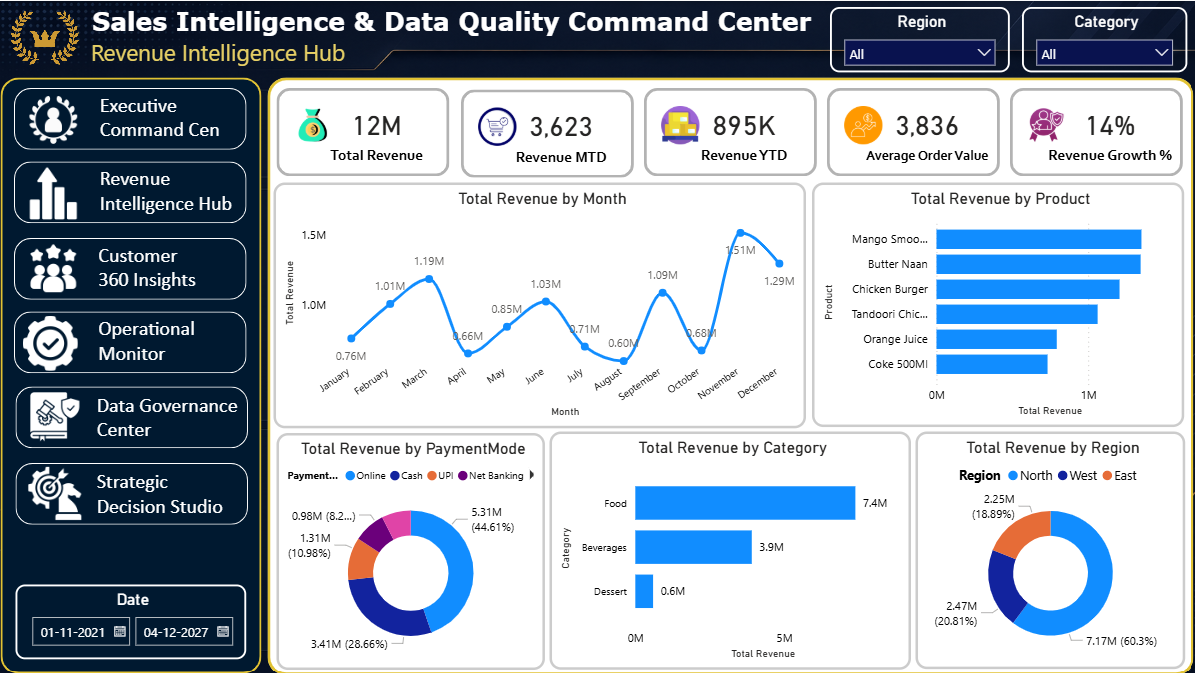

The dashboard page shown, as its layout file describes it:
{"tool":"powerbi","page":{"name":"Revenue Intelligence Hub","canvas":[1280,720],"ordinal":1},"visuals":[{"type":"group","id":"g1","title":"Base","box":[0,0,1280.7,714.2],"z":0},{"type":"textbox","box":[0,0,1280.7,80.9],"z":0,"group":"g17"},{"type":"shape","box":[291.1,80.4,983,634.7],"z":0,"group":"g2"},{"type":"shape","box":[8,81.1,276.8,633.1],"z":0,"group":"g1"},{"type":"shape","box":[300.6,91.2,183.4,93.6],"z":0,"group":"g10"},{"type":"shape","box":[689.7,91.6,183.4,93.6],"z":0,"group":"g8"},{"type":"shape","box":[883.7,91.6,183.4,93.6],"z":0,"group":"g5"},{"type":"shape","box":[1077.7,91.6,183.4,93.6],"z":0,"group":"g3"},{"type":"textbox","box":[107.9,92.1,161.8,67.4],"z":0,"group":"g16"},{"type":"shape","box":[495.7,93.3,183.4,93.6],"z":0,"group":"g9"},{"type":"textbox","box":[108.3,170.7,161.8,67.4],"z":0,"group":"g15"},{"type":"textbox","box":[105.9,251.4,148.3,65.5],"z":0,"group":"g14"},{"type":"textbox","box":[106.3,329.3,161.8,65.5],"z":0,"group":"g13"},{"type":"textbox","box":[105.5,410,167.5,65.5],"z":0,"group":"g12"},{"type":"textbox","box":[106.1,491.8,161.8,63.6],"z":0,"group":"g11"},{"type":"donutChart","fields":{"Y":["Measure.Total Revenue"],"Category":["Dim_Location.Region"]},"box":[977.3,455.9,286.3,252],"z":538,"group":"g6"},{"type":"clusteredBarChart","fields":{"Category":["Dim_Product.Product"],"Y":["Measure.Total Revenue"]},"box":[868.5,192.2,394.5,259.3],"z":577,"group":"g4"},{"type":"donutChart","fields":{"Y":["Measure.Total Revenue"],"Category":["Fact_Sales.PaymentMode"]},"box":[300.3,457.5,284.7,251.3],"z":593,"group":"g6"},{"type":"clusteredBarChart","fields":{"Y":["Measure.Total Revenue"],"Category":["Dim_Product.Category"]},"box":[589.2,455.9,383.3,252.9],"z":625,"group":"g6"},{"type":"lineChart","fields":{"Category":["Dim_Date.Date.Variation.Date Hierarchy.Month"],"Y":["Measure.Total Revenue"]},"box":[297.5,192.2,564.9,260.5],"z":750,"group":"g4"},{"type":"image","box":[15.4,9.6,77,59.7],"z":1000,"group":"g17"},{"type":"group","id":"g2","title":"Center","box":[291.1,80.4,983,634.7],"z":1000},{"type":"card","fields":{"Values":["Measure.Total Revenue"]},"box":[329.4,91.2,154.5,93.6],"z":1000,"group":"g10"},{"type":"card","fields":{"Values":["Measure.Revenue YTD"]},"box":[718.5,91.6,154.5,93.6],"z":1000,"group":"g8"},{"type":"card","fields":{"Values":["Measure.Average Order Value"]},"box":[912.5,91.6,154.5,93.6],"z":1000,"group":"g5"},{"type":"group","id":"g3","title":"Card-5","box":[1077.7,91.6,182.1,93.4],"z":1000,"group":"g7"},{"type":"card","fields":{"Values":["Measure.Revenue Growth %"]},"box":[1106.5,91.6,154.5,93.6],"z":1000,"group":"g3"},{"type":"shape","box":[21.7,92.5,246.5,65.5],"z":1000,"group":"g16"},{"type":"card","fields":{"Values":["Measure.Revenue MTD"]},"box":[524.5,93.3,154.5,93.6],"z":1000,"group":"g9"},{"type":"shape","box":[22.1,171.1,246.5,65.5],"z":1000,"group":"g15"},{"type":"group","id":"g4","title":"Group 2","box":[297.5,192.2,965.5,260.5],"z":1000,"group":"g2"},{"type":"shape","box":[21.7,251.1,246.5,65.5],"z":1000,"group":"g14"},{"type":"shape","box":[22.1,328.7,246.5,65.5],"z":1000,"group":"g13"},{"type":"shape","box":[23.8,409.1,246.5,65.5],"z":1000,"group":"g12"},{"type":"shape","box":[24.2,489.9,246.5,65.5],"z":1000,"group":"g11"},{"type":"group","id":"g5","title":"Card-4","box":[883.7,91.6,182.1,93.4],"z":2000,"group":"g7"},{"type":"image","box":[35.2,96.4,57.8,57.8],"z":2000,"group":"g16"},{"type":"image","box":[317.6,109.8,41.8,40.5],"z":2000,"group":"g10"},{"type":"image","box":[706.7,110.2,41.8,40.5],"z":2000,"group":"g8"},{"type":"image","box":[900.7,110.2,41.8,40.5],"z":2000,"group":"g5"},{"type":"image","box":[1094.7,110.2,41.8,40.5],"z":2000,"group":"g3"},{"type":"image","box":[512.7,111.9,41.8,40.5],"z":2000,"group":"g9"},{"type":"image","box":[35.6,175,57.8,57.8],"z":2000,"group":"g15"},{"type":"image","box":[35.2,255,57.8,57.8],"z":2000,"group":"g14"},{"type":"image","box":[31.2,333.1,57.8,57.8],"z":2000,"group":"g13"},{"type":"image","box":[37.3,413,57.8,57.8],"z":2000,"group":"g12"},{"type":"group","id":"g6","title":"Group 1","box":[300.3,455.9,963.3,252.9],"z":2000,"group":"g2"},{"type":"image","box":[37.7,493.8,57.8,57.8],"z":2000,"group":"g11"},{"type":"group","id":"g7","title":"Group 3","box":[300.6,91.2,959.1,95.4],"z":3000,"group":"g2"},{"type":"group","id":"g8","title":"Card-3","box":[689.7,91.6,182.1,93.4],"z":3000,"group":"g7"},{"type":"group","id":"g9","title":"Card-2","box":[495.7,93.3,182.1,93.4],"z":4000,"group":"g7"},{"type":"group","id":"g10","title":"Card-1","box":[300.6,91.2,182.8,92.9],"z":5000,"group":"g7"},{"type":"slicer","title":"Date","fields":{"Values":["Dim_Date.Date"]},"box":[23.4,618.7,245,79.5],"z":5000,"group":"g1"},{"type":"group","id":"g11","title":"Button-6","box":[24.2,489.9,246.5,65.5],"z":9000,"group":"g1"},{"type":"group","id":"g12","title":"Button-5","box":[23.8,409.1,249.3,66.4],"z":9062,"group":"g1"},{"type":"group","id":"g13","title":"Button-4","box":[22.1,328.7,246.5,66.1],"z":9125,"group":"g1"},{"type":"group","id":"g14","title":"Button-3","box":[21.7,251.1,246.5,65.8],"z":9250,"group":"g1"},{"type":"group","id":"g15","title":"Button-2","box":[22.1,170.7,247.9,67.4],"z":9500,"group":"g1"},{"type":"group","id":"g16","title":"Button-1","box":[21.7,92.1,248.4,67.4],"z":10000,"group":"g1"},{"type":"slicer","title":"Category","fields":{"Values":["Dim_Product.Category"]},"box":[1091.9,5.8,175.2,69.3],"z":10500,"group":"g1"},{"type":"slicer","title":"Region","fields":{"Values":["Dim_Location.Region"]},"box":[887.8,5.8,190.7,69.3],"z":11000,"group":"g1"},{"type":"group","id":"g17","title":"Header","box":[0,0,1280.7,80.9],"z":11500,"group":"g1"}]}

Visuals, with their boxes in screenshot pixels (x1, y1, x2, y2), scaled from the page's 1280x720 canvas onto the 1195x673 screenshot:
"Base" group: <box>0,0,1194,668</box>
textbox: <box>0,0,1194,76</box>
shape: <box>272,75,1189,668</box>
shape: <box>7,76,266,668</box>
shape: <box>281,85,452,173</box>
shape: <box>644,86,815,173</box>
shape: <box>825,86,996,173</box>
shape: <box>1006,86,1177,173</box>
textbox: <box>101,86,252,149</box>
shape: <box>463,87,634,175</box>
textbox: <box>101,160,252,223</box>
textbox: <box>99,235,237,296</box>
textbox: <box>99,308,250,369</box>
textbox: <box>98,383,255,444</box>
textbox: <box>99,460,250,519</box>
donutChart - Measure.Total Revenue x Dim_Location.Region: <box>912,426,1180,662</box>
clusteredBarChart - Dim_Product.Product x Measure.Total Revenue: <box>811,180,1179,422</box>
donutChart - Measure.Total Revenue x Fact_Sales.PaymentMode: <box>280,428,546,663</box>
clusteredBarChart - Measure.Total Revenue x Dim_Product.Category: <box>550,426,908,663</box>
lineChart - Dim_Date.Date.Variation.Date Hierarchy.Month x Measure.Total Revenue: <box>278,180,805,423</box>
image: <box>14,9,86,65</box>
"Center" group: <box>272,75,1189,668</box>
card - Measure.Total Revenue: <box>308,85,452,173</box>
card - Measure.Revenue YTD: <box>671,86,815,173</box>
card - Measure.Average Order Value: <box>852,86,996,173</box>
"Card-5" group: <box>1006,86,1176,173</box>
card - Measure.Revenue Growth %: <box>1033,86,1177,173</box>
shape: <box>20,86,250,148</box>
card - Measure.Revenue MTD: <box>490,87,634,175</box>
shape: <box>21,160,251,221</box>
"Group 2" group: <box>278,180,1179,423</box>
shape: <box>20,235,250,296</box>
shape: <box>21,307,251,368</box>
shape: <box>22,382,252,444</box>
shape: <box>23,458,253,519</box>
"Card-4" group: <box>825,86,995,173</box>
image: <box>33,90,87,144</box>
image: <box>297,103,336,140</box>
image: <box>660,103,699,141</box>
image: <box>841,103,880,141</box>
image: <box>1022,103,1061,141</box>
image: <box>479,105,518,142</box>
image: <box>33,164,87,218</box>
image: <box>33,238,87,292</box>
image: <box>29,311,83,365</box>
image: <box>35,386,89,440</box>
"Group 1" group: <box>280,426,1180,663</box>
image: <box>35,462,89,516</box>
"Group 3" group: <box>281,85,1176,174</box>
"Card-3" group: <box>644,86,814,173</box>
"Card-2" group: <box>463,87,633,175</box>
"Card-1" group: <box>281,85,451,172</box>
"Date" slicer: <box>22,578,251,653</box>
"Button-6" group: <box>23,458,253,519</box>
"Button-5" group: <box>22,382,255,444</box>
"Button-4" group: <box>21,307,251,369</box>
"Button-3" group: <box>20,235,250,296</box>
"Button-2" group: <box>21,160,252,223</box>
"Button-1" group: <box>20,86,252,149</box>
"Category" slicer: <box>1019,5,1183,70</box>
"Region" slicer: <box>829,5,1007,70</box>
"Header" group: <box>0,0,1194,76</box>
